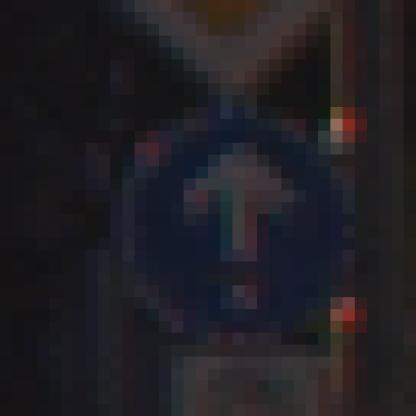AheadOnly: (62, 61, 356, 358)
